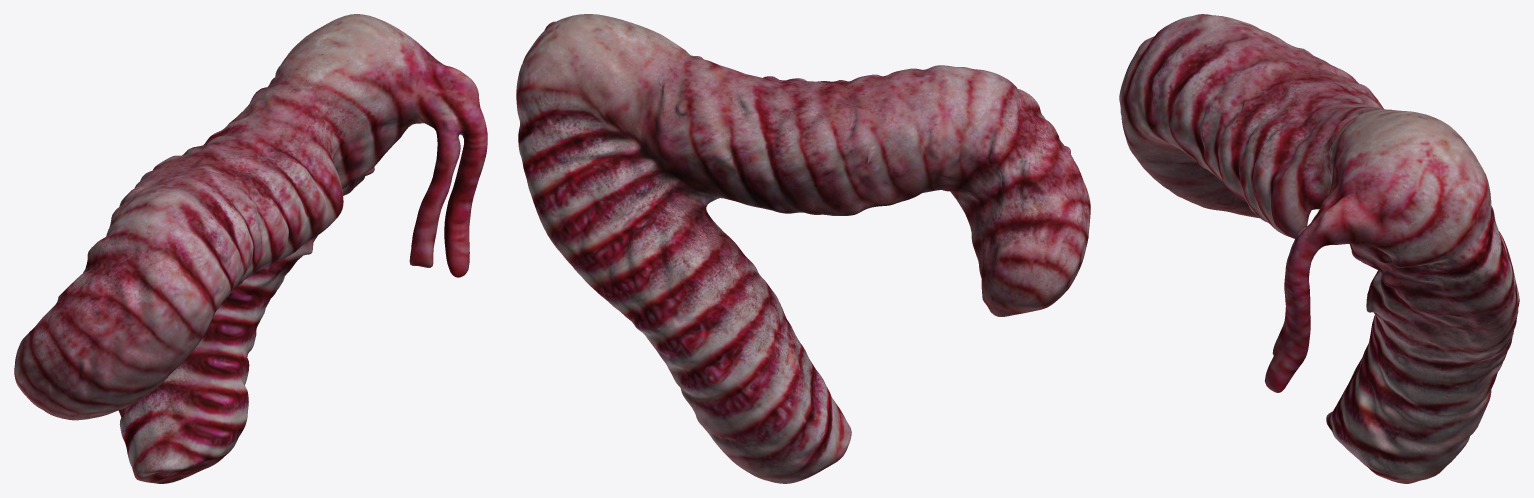
File: 1dbd1c0fb4f8_gory_intestines_min.fbx
The picture shows the model from 3 angles, left to right: view 1: azimuth 30°, elevation 25°; view 2: azimuth 150°, elevation 25°; view 3: azimuth 270°, elevation 25°; orthographic projection. The views are drawn at different scales.
Parts seen in each view (by area): view 1: high_poly; view 2: high_poly; view 3: high_poly.
Boxes of the visible parts, <box> form: high_poly: <box>14,14,487,483</box>; high_poly: <box>516,14,1090,483</box>; high_poly: <box>1119,14,1519,483</box>.
Bounding box in the file's own units: 100 × 80.33 × 63.14.
